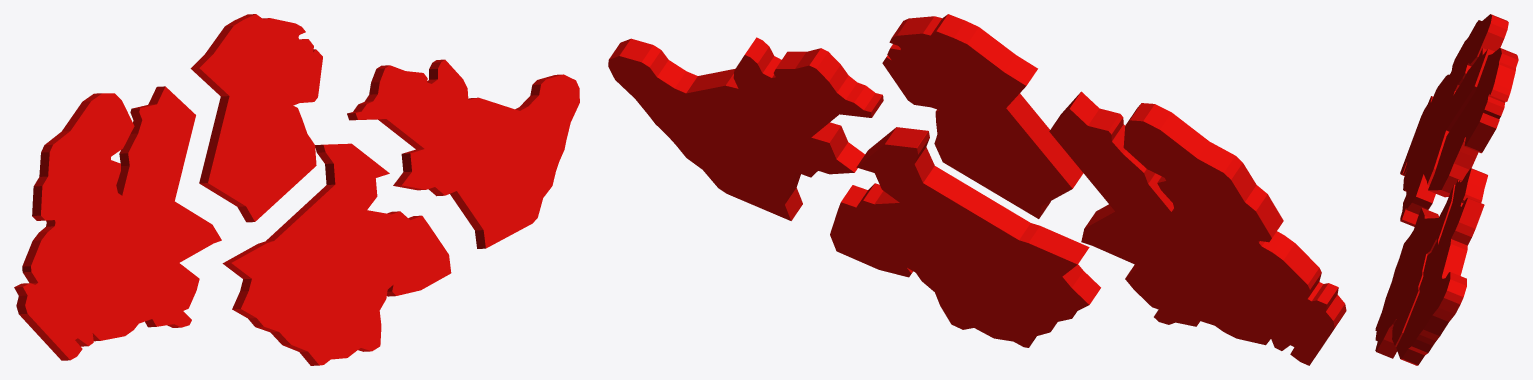
File: singapore.gltf
3 views of the same model, side by side, from view 1: azimuth 30°, elevation 25°; view 2: azimuth 150°, elevation 25°; view 3: azimuth 270°, elevation 25° (orthographic). The views are drawn at different scales.
Parts seen in each view (by area): view 1: West, Central, East, North; view 2: West, Central, East, North; view 3: East, West, North, Central.
Boxes of the visible parts, x1,y1,x2,y2 form: West: (14, 86, 221, 360); Central: (222, 143, 451, 365); East: (347, 59, 579, 248); North: (190, 14, 322, 222); West: (1049, 91, 1346, 365); Central: (830, 127, 1100, 347); East: (608, 37, 883, 220); North: (882, 14, 1083, 218); East: (1396, 168, 1487, 365); West: (1400, 14, 1508, 226); North: (1428, 48, 1518, 197); Central: (1375, 184, 1455, 358).
Bounding box in the file's own units: 2.96 × 1.54 × 0.7036.
